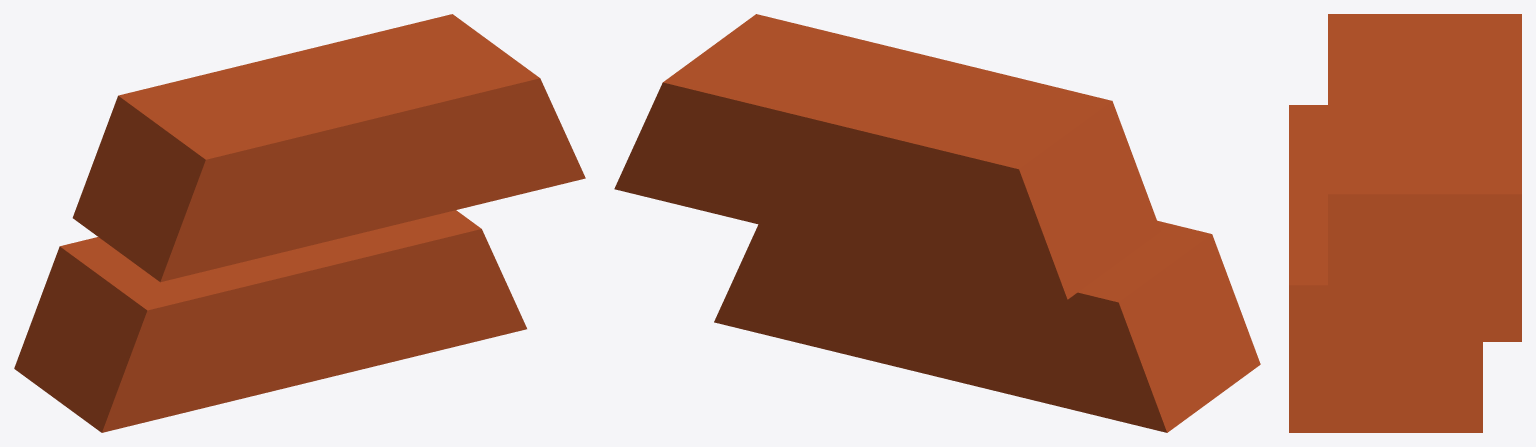
File: cinder_bar.glb
The picture shows the model from 3 angles, left to right: view 1: azimuth 30°, elevation 25°; view 2: azimuth 150°, elevation 25°; view 3: azimuth 270°, elevation 25°; orthographic projection. The views are drawn at different scales.
Parts seen in each view (by area): view 1: cinder_bar_v0; view 2: cinder_bar_v0; view 3: cinder_bar_v0.
Boxes of the visible parts, x1,y1,x2,y2 form: cinder_bar_v0: (14,14,585,432); cinder_bar_v0: (614,14,1260,432); cinder_bar_v0: (1289,14,1521,432).
Size of the model in its own units: 0.33 by 0.145 by 0.12.
